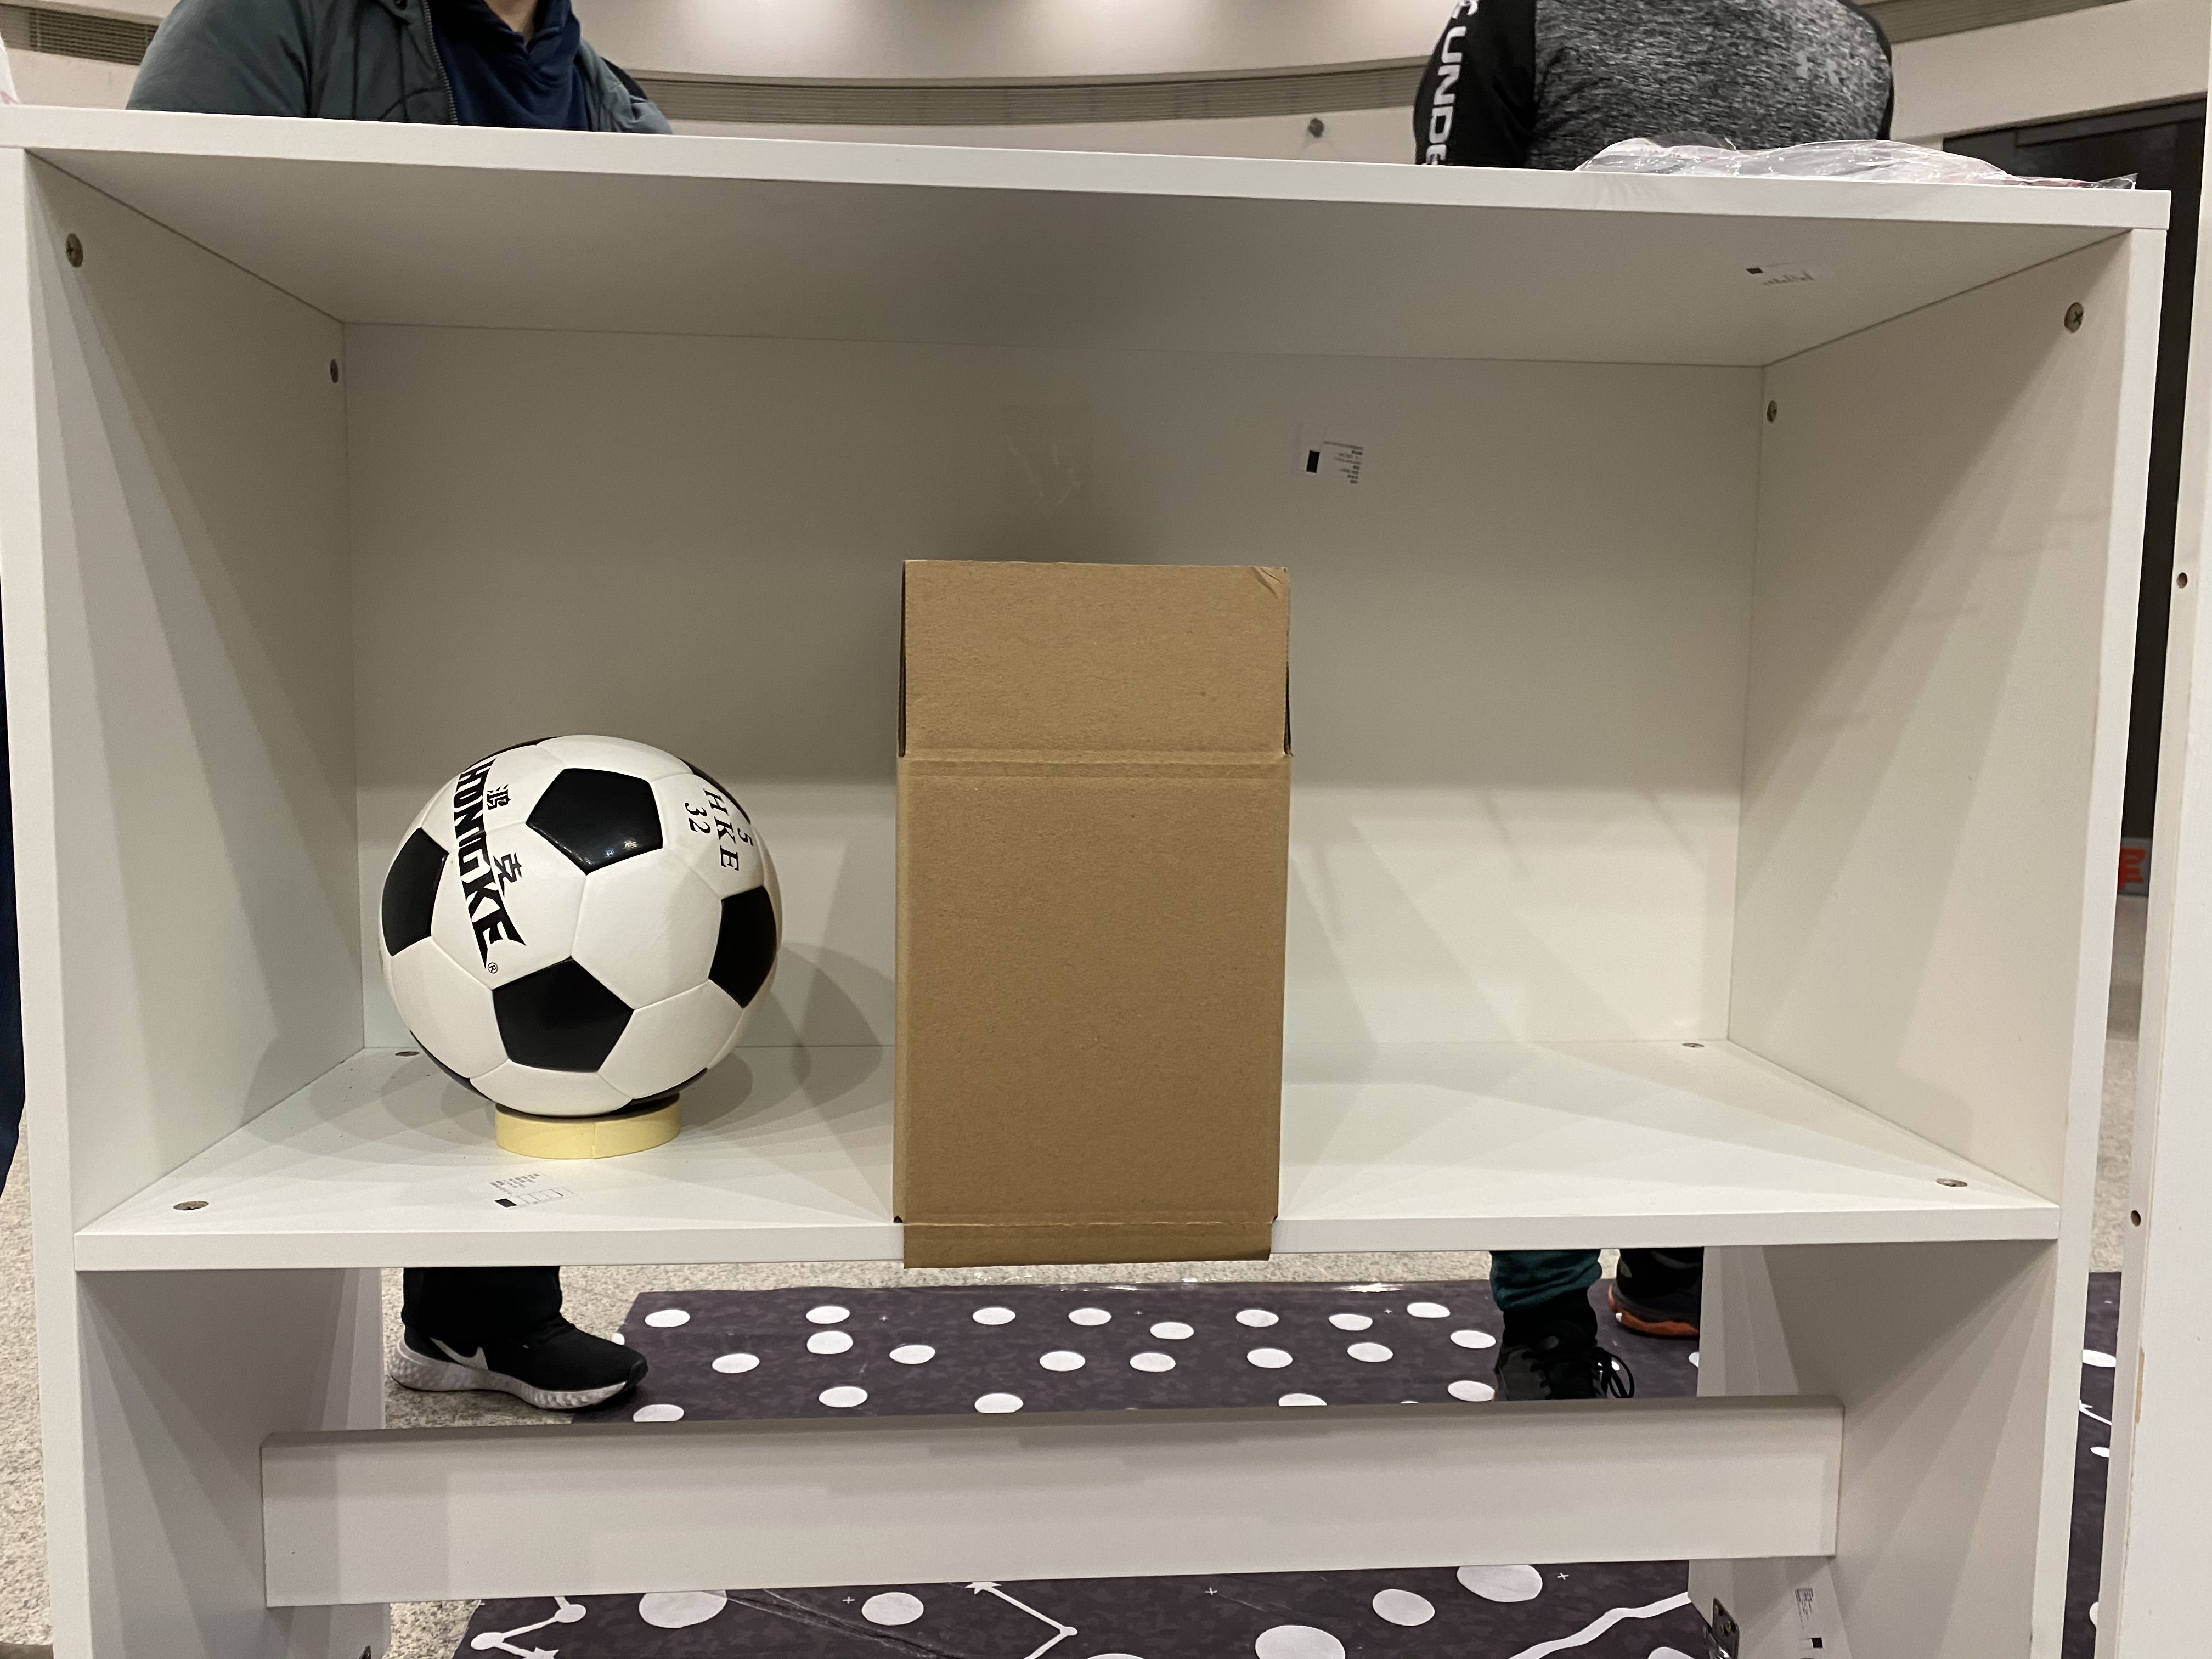football: (374, 730, 779, 1119)
